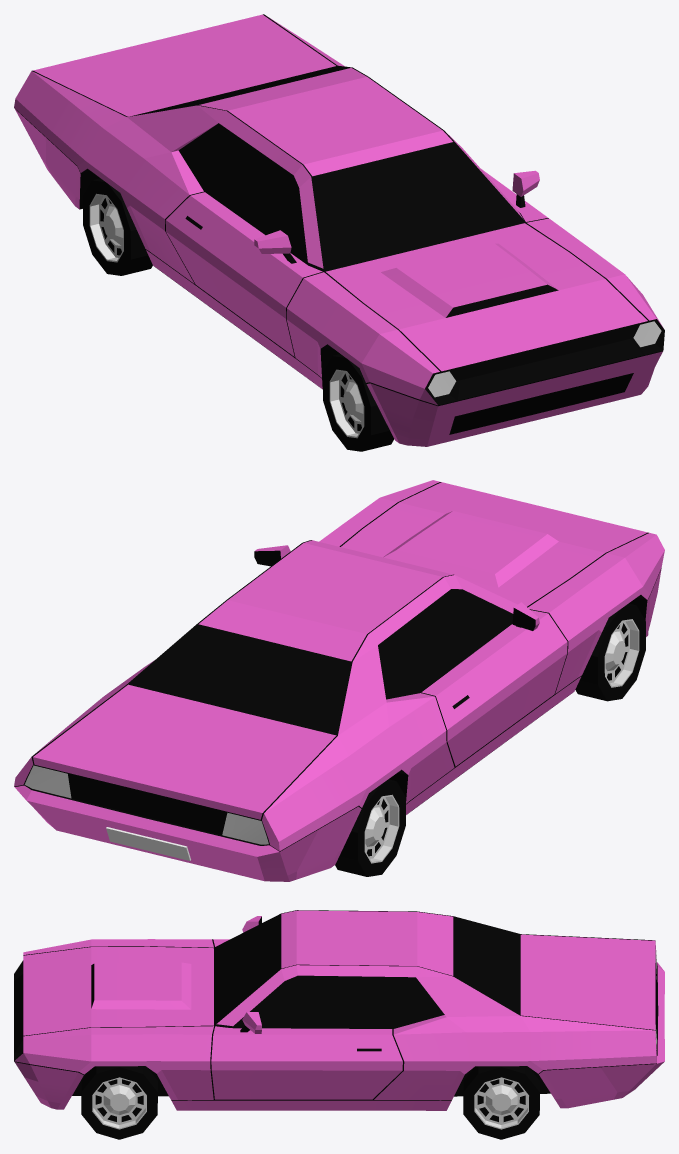
File: Muscle.glb
The picture shows the model from 3 angles, top to bottom: view 1: azimuth 30°, elevation 25°; view 2: azimuth 150°, elevation 25°; view 3: azimuth 270°, elevation 25°; orthographic projection. The views are drawn at different scales.
Parts seen in each view (by area): view 1: Muscle; view 2: Muscle; view 3: Muscle.
Part boxes in pixels (x1,y1,x2,y2): Muscle: [14, 14, 664, 451]; Muscle: [14, 480, 664, 881]; Muscle: [14, 910, 664, 1139].
Bounding box in the file's own units: 3.05 × 1.94 × 7.68.
